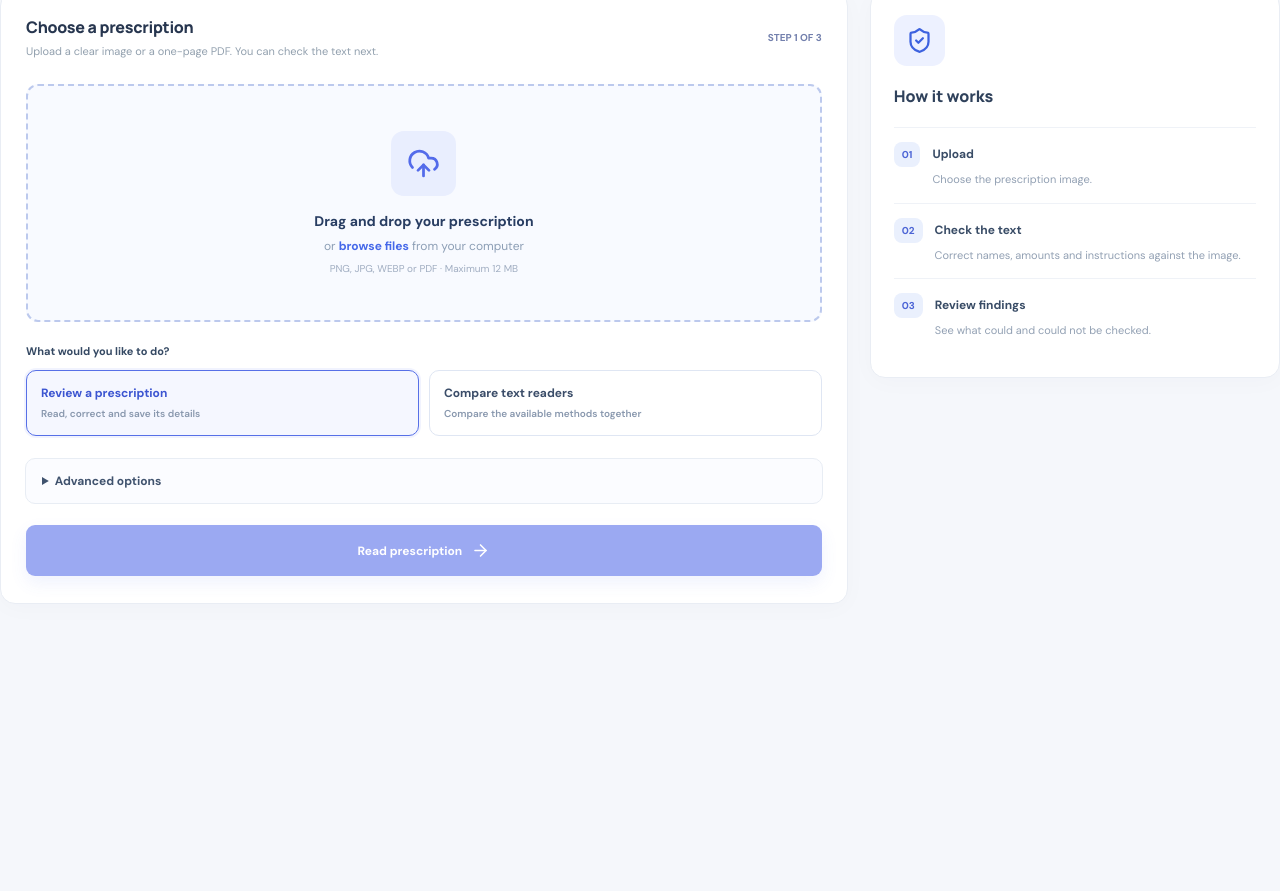
it: comparison workspace › requires a source image and can be opened from the upload page
The image size is (1280, 891).
Click the button "Compare text readers Compare the available methods together".
click(509, 393)  # box [429,370,822,436]
(page scrolled)
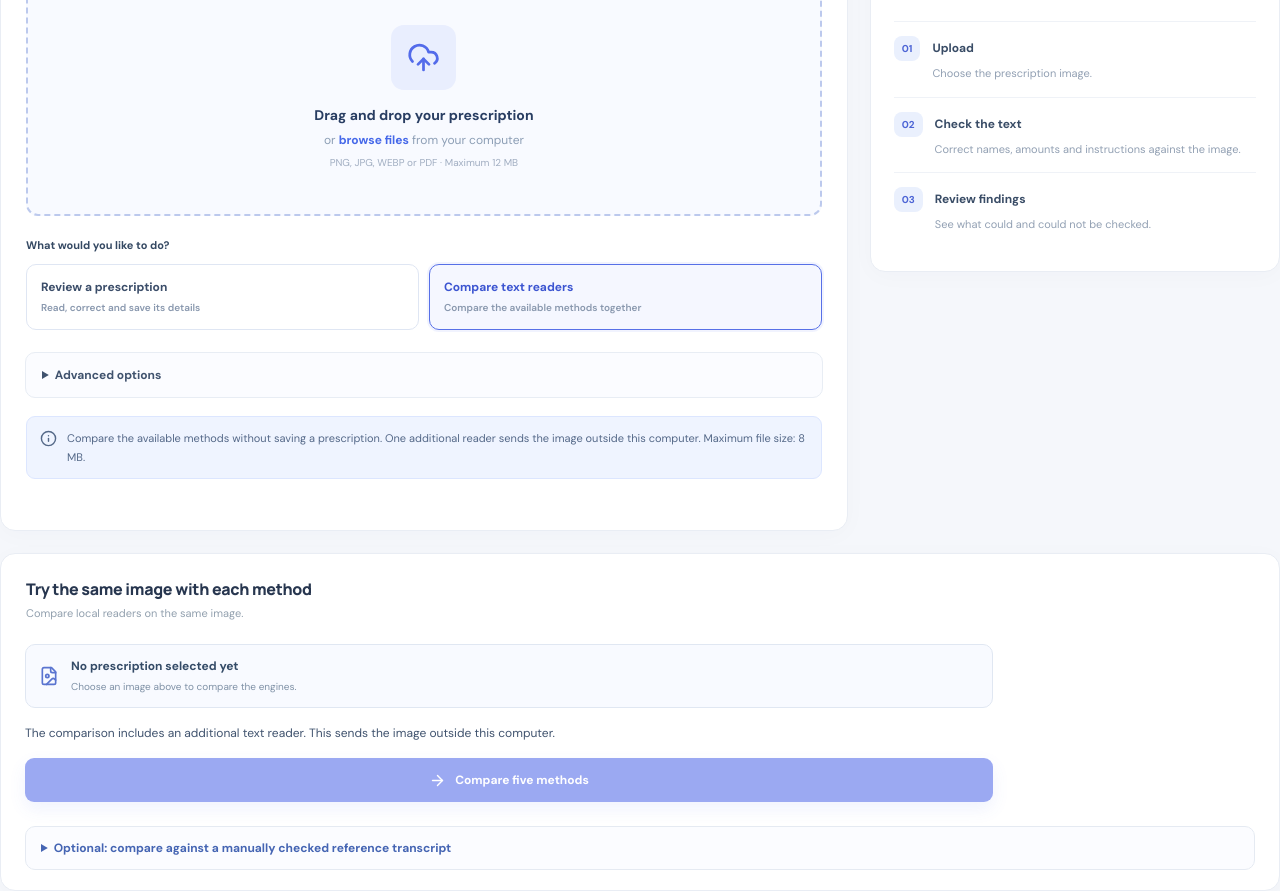
Expected: the button "Compare five methods" is disabled, [25,758,993,802]
Expected: the button "Read prescription" is gone
